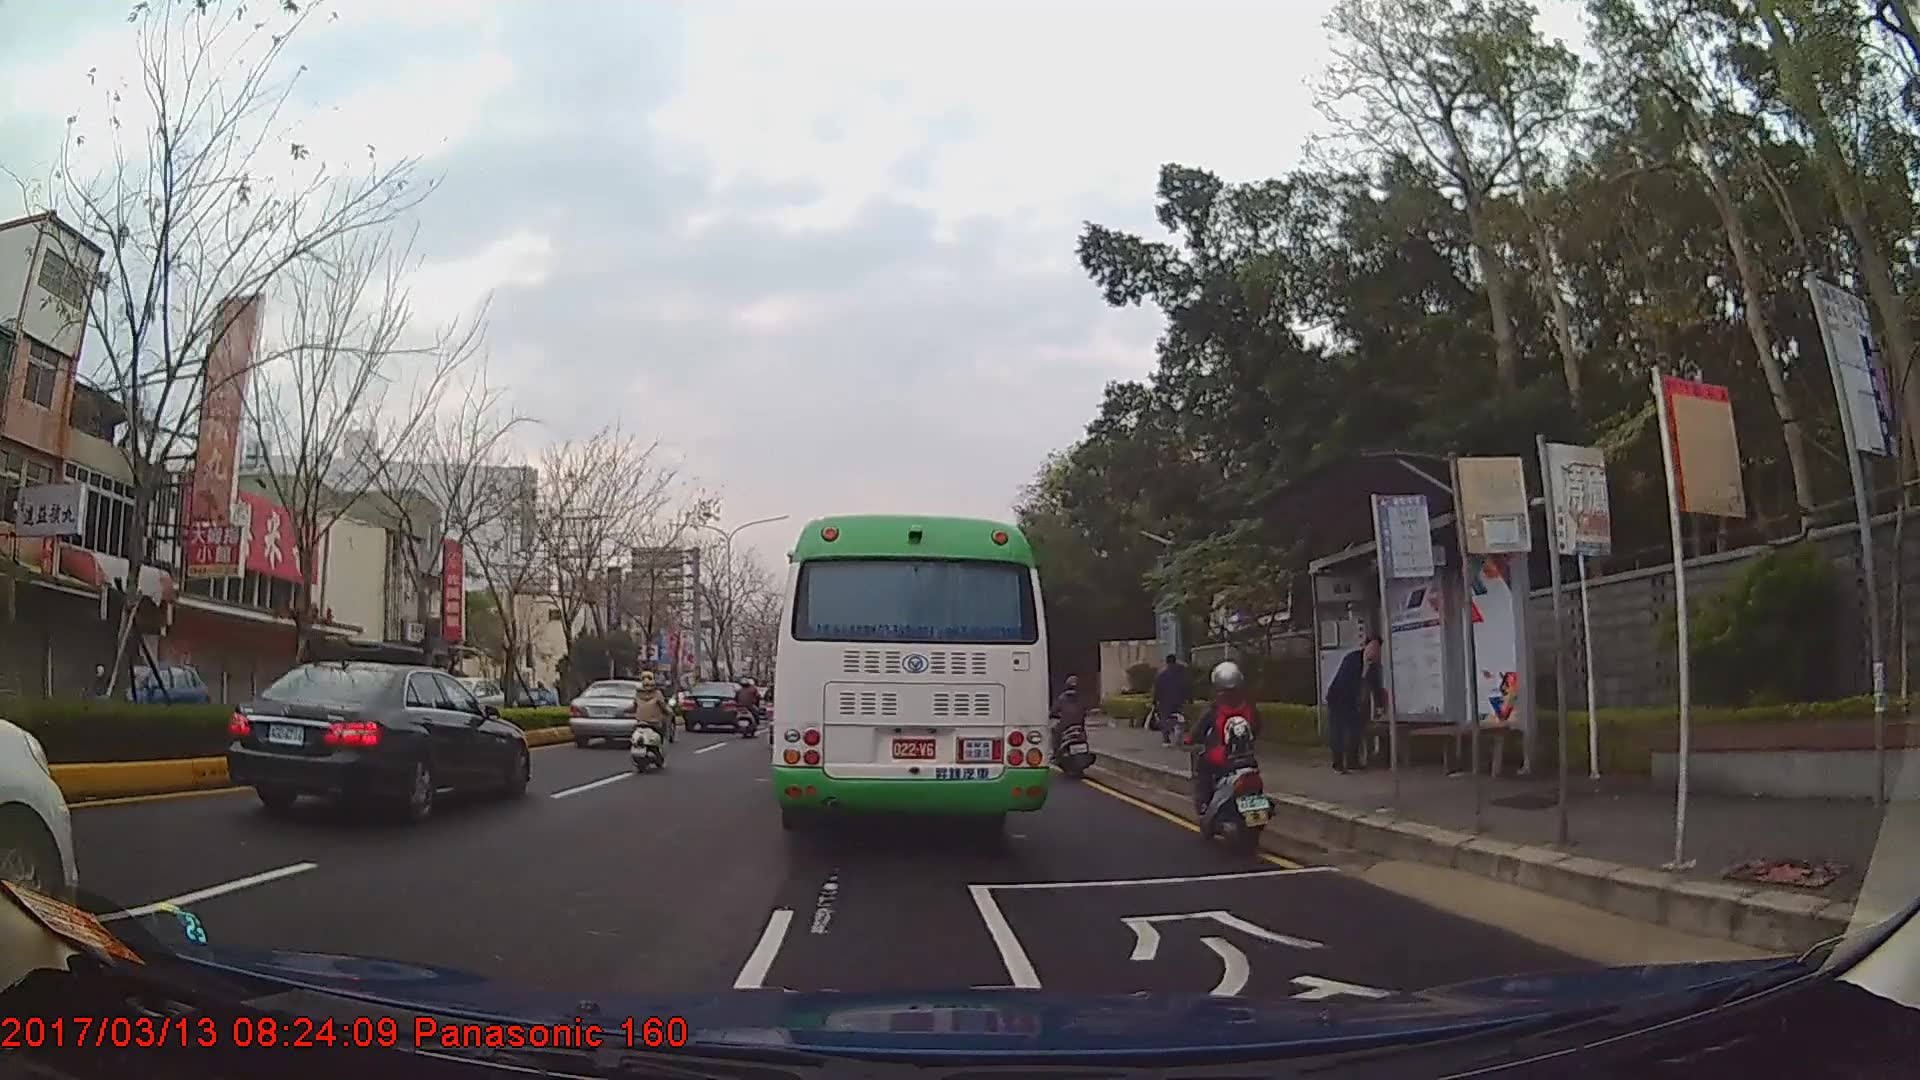pedestrian: (1331, 634, 1389, 779), (1145, 653, 1193, 751)
rider: (1180, 664, 1279, 852), (1049, 673, 1096, 782), (632, 670, 676, 770), (736, 678, 759, 739), (86, 665, 112, 700)
vehicle: (772, 513, 1049, 840), (218, 659, 528, 817), (83, 657, 212, 738), (570, 676, 675, 748), (410, 666, 516, 730), (681, 677, 749, 731)
